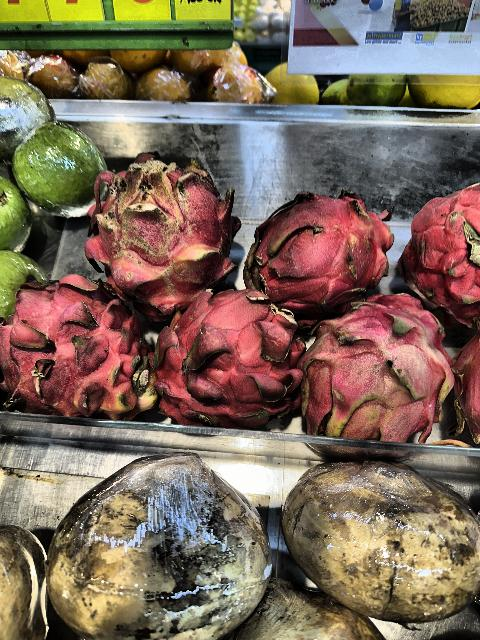buah-naga-belum-matang: (308, 288, 446, 454)
buah-naga-matang: (150, 284, 306, 434), (82, 148, 230, 304), (0, 272, 156, 418), (237, 194, 389, 300), (394, 178, 480, 320)
